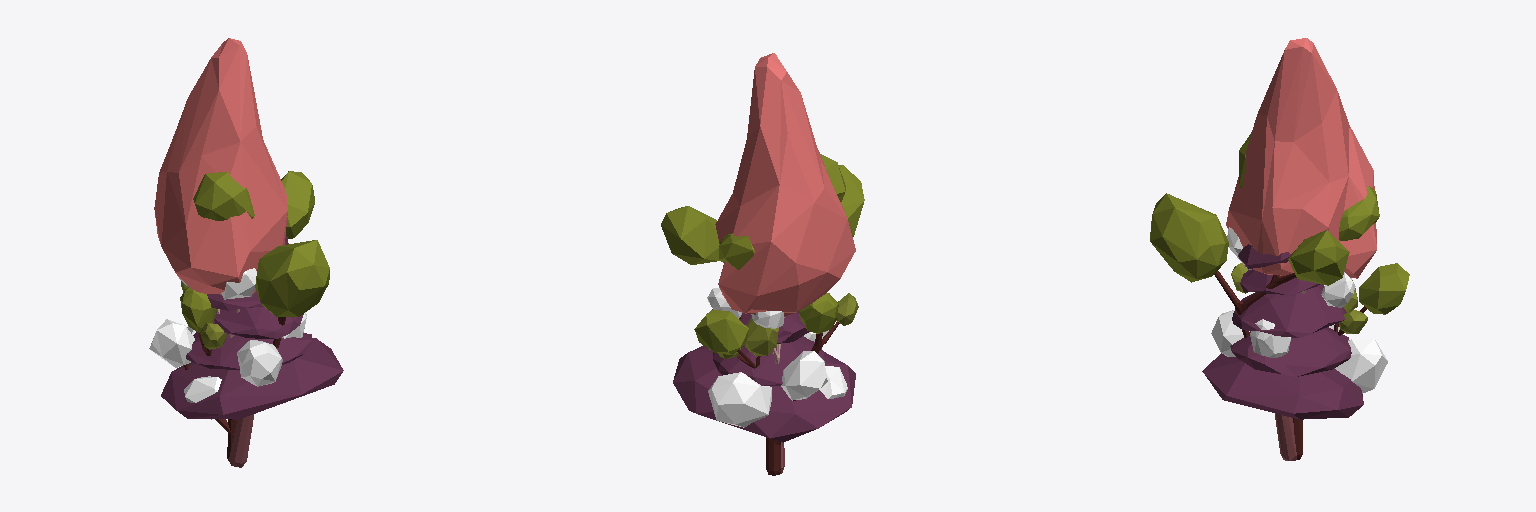
3 renders of one model, left to right at view 1: azimuth 30°, elevation 25°; view 2: azimuth 150°, elevation 25°; view 3: azimuth 270°, elevation 25°, orthographic.
Visible parts, largest first — view 1: Leaves.003_Icosphere.018, Leaves.004_Cube.011, Leaves.001_Icosphere.007, Leaves.002_Icosphere.017, Trunk.004_Cube.006; view 2: Leaves.003_Icosphere.018, Leaves.001_Icosphere.007, Leaves.004_Cube.011, Leaves.002_Icosphere.017, Trunk.001_Cube; view 3: Leaves.003_Icosphere.018, Leaves.004_Cube.011, Leaves.001_Icosphere.007, Leaves.002_Icosphere.017, Trunk.001_Cube, Trunk.004_Cube.006.
Part boxes in pixels (x1,y1,x2,y2): Leaves.003_Icosphere.018: (154,38,287,294); Leaves.004_Cube.011: (161,236,343,419); Leaves.001_Icosphere.007: (180,171,329,349); Leaves.002_Icosphere.017: (149,268,306,419); Trunk.004_Cube.006: (229,414,253,467); Leaves.003_Icosphere.018: (715,53,855,316); Leaves.001_Icosphere.007: (661,154,864,358); Leaves.004_Cube.011: (673,309,855,442); Leaves.002_Icosphere.017: (707,288,847,427); Trunk.001_Cube: (737,322,839,475); Leaves.003_Icosphere.018: (1226,38,1376,278); Leaves.004_Cube.011: (1202,244,1363,419); Leaves.001_Icosphere.007: (1150,132,1409,333); Leaves.002_Icosphere.017: (1211,227,1387,393); Trunk.001_Cube: (1214,271,1366,459); Trunk.004_Cube.006: (1275,413,1296,460).
Size of the model in its own units: 5.55 by 13.71 by 7.62.
2 materials, 1 textured.